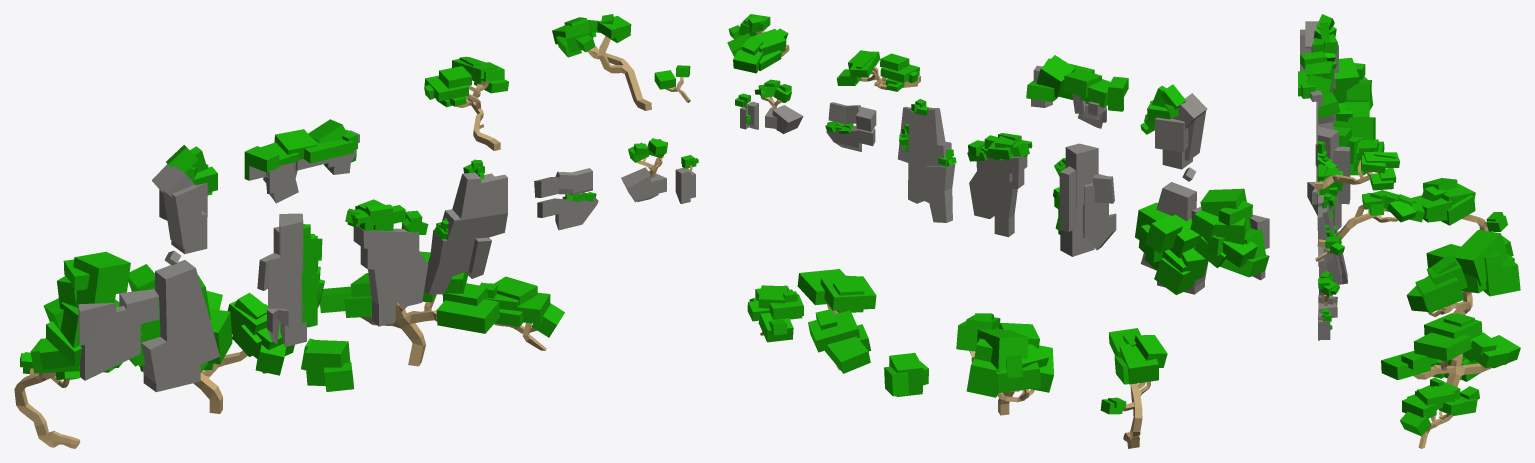
The model's file is GreeneryV3.fbx.
3 renders of one model, left to right at view 1: azimuth 30°, elevation 25°; view 2: azimuth 150°, elevation 25°; view 3: azimuth 270°, elevation 25°, orthographic. The views are drawn at different scales.
Visible parts, largest first — view 1: G_Wall_Large, G_Wall_TopBush, G_WallTilted, G_Wall_VerticalCrevice, G_Ground_Spread, G_Edge_Hang, Bush_SurfaceD, Cube.009, G_Wall_Pretty, G_Wall_Simple, G_Ground_Mushroomy, G_Ground_FramerV2 (+5 smaller); view 2: G_Wall_Large, Bush_SurfaceD, G_Wall_VerticalCrevice, G_Ground_Spread, G_WallTilted, G_Wall_TopBush, G_Edge_Hang, Cube.009, G_Ground_FramerV2, G_Wall_Simple, G_Ground_Mushroomy, G_Wall_Pretty (+4 smaller); view 3: Bush_SurfaceD, G_Ground_Spread, G_Wall_Large, G_Ground_Mushroomy, G_Ground_FramerV2, G_Edge_Hang, G_Wall_Pretty, G_Wall_VerticalCrevice, G_Wall_Simple, Cube.009, G_WallTilted, G_Wall_TinyTree (+5 smaller).
Boxes of the visible parts, x1,y1,x2,y2 form: G_Wall_Large: [43, 251, 219, 392]; G_Wall_TopBush: [345, 199, 428, 326]; G_WallTilted: [424, 159, 507, 294]; G_Wall_VerticalCrevice: [257, 213, 324, 346]; G_Ground_Spread: [320, 251, 499, 366]; G_Edge_Hang: [244, 119, 359, 203]; Bush_SurfaceD: [140, 290, 294, 413]; Cube.009: [152, 145, 217, 265]; G_Wall_Pretty: [424, 56, 508, 150]; G_Wall_Simple: [552, 14, 651, 110]; G_Ground_Mushroomy: [479, 276, 564, 350]; G_Ground_FramerV2: [14, 338, 122, 448]; G_Wall_Large: [1135, 182, 1269, 294]; Bush_SurfaceD: [956, 313, 1053, 415]; G_Wall_VerticalCrevice: [1053, 143, 1116, 256]; G_Ground_Spread: [797, 269, 876, 373]; G_WallTilted: [897, 99, 956, 222]; G_Wall_TopBush: [967, 133, 1032, 237]; G_Edge_Hang: [1026, 55, 1128, 128]; Cube.009: [1140, 84, 1207, 181]; G_Ground_FramerV2: [1100, 328, 1167, 448]; G_Wall_Simple: [727, 14, 789, 73]; G_Ground_Mushroomy: [747, 285, 803, 342]; G_Wall_Pretty: [836, 50, 920, 91]; Bush_SurfaceD: [1406, 230, 1520, 317]; G_Ground_Spread: [1381, 313, 1520, 387]; G_Wall_Large: [1316, 57, 1375, 181]; G_Ground_Mushroomy: [1400, 377, 1479, 448]; G_Ground_FramerV2: [1411, 178, 1507, 231]; G_Edge_Hang: [1298, 51, 1340, 124]; G_Wall_Pretty: [1314, 139, 1399, 190]; G_Wall_VerticalCrevice: [1307, 126, 1350, 230]; G_Wall_Simple: [1317, 190, 1424, 247]; Cube.009: [1300, 14, 1338, 73]; G_WallTilted: [1318, 193, 1347, 284]; G_Wall_TinyTree: [1318, 272, 1339, 317].
Size of the model in its own units: 647 by 1649 by 884.
